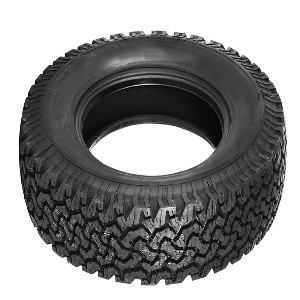tire: (18, 29, 290, 287)
